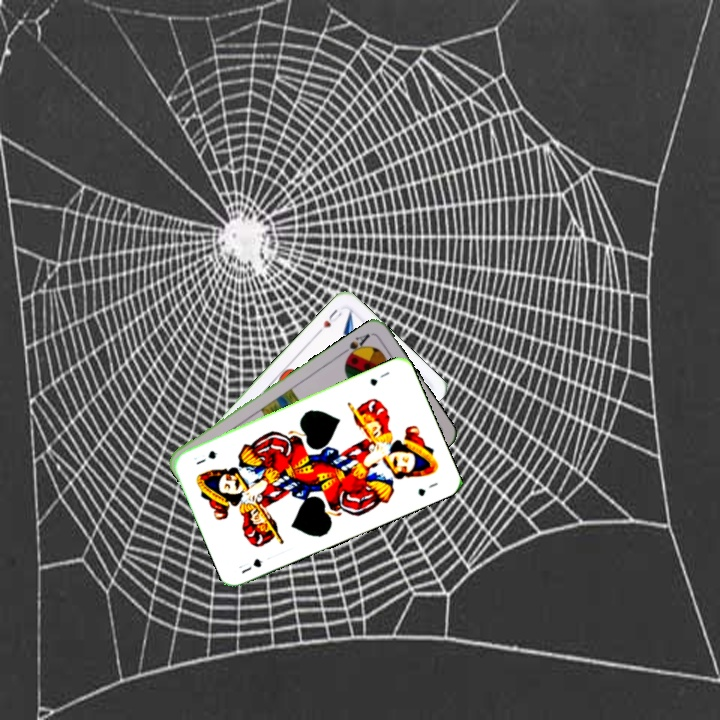GU: (237, 554, 265, 576), (366, 367, 392, 388)
HU: (313, 305, 344, 336)
SA: (338, 329, 373, 362)
